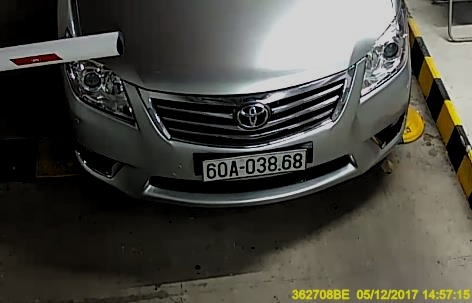plate: (201, 152, 307, 186)
